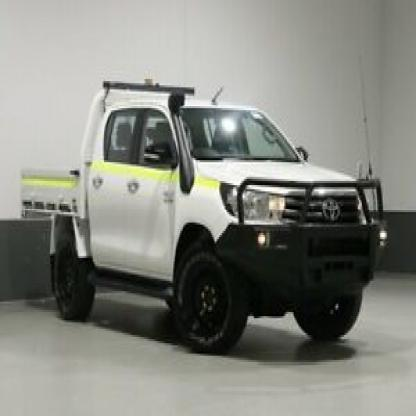light_vehicle: (14, 68, 387, 360)
